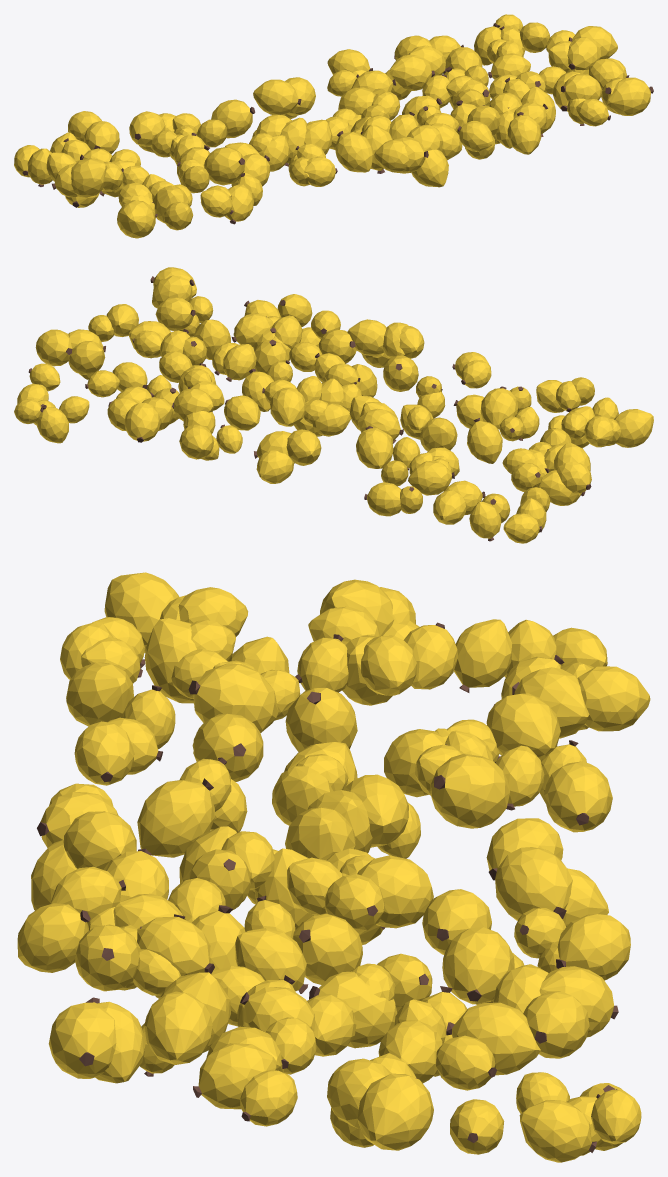
File: lemon 2.fbx
3 views of the same model, one above another, from view 1: azimuth 30°, elevation 25°; view 2: azimuth 150°, elevation 25°; view 3: azimuth 270°, elevation 25° (orthographic). The views are drawn at different scales.
Parts seen in each view (by area): view 1: Lemon.000; view 2: Lemon.000; view 3: Lemon.000.
Boxes of the visible parts, <box> form: Lemon.000: <box>14,14,653,238</box>; Lemon.000: <box>14,267,653,543</box>; Lemon.000: <box>17,572,650,1162</box>.
Size of the model in its own units: 1001 by 132 by 496.
